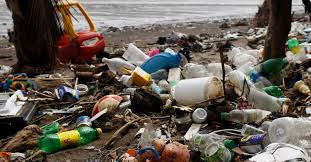garbage: (1, 65, 311, 161), (117, 39, 263, 162)
